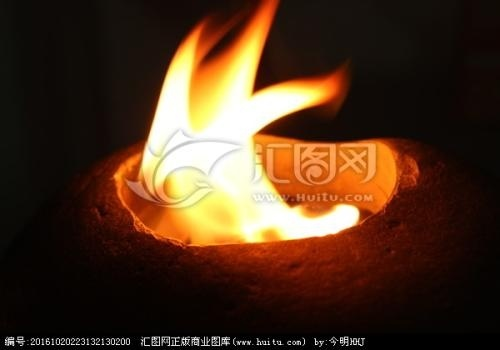fire: (126, 0, 351, 252)
